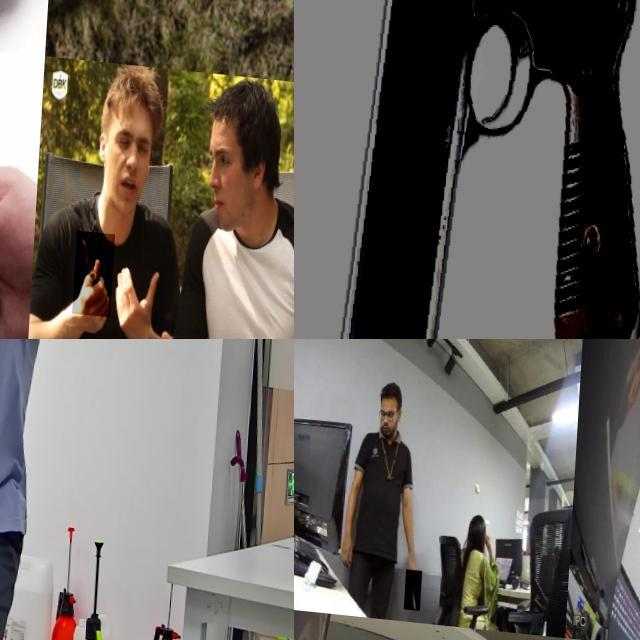-: (0, 25, 103, 287), (120, 0, 294, 88), (79, 222, 121, 308), (408, 566, 426, 607), (0, 0, 29, 19)
gun-knife-thesis - v11 Yolov5 augmented: (294, 0, 640, 339), (0, 339, 26, 409)
